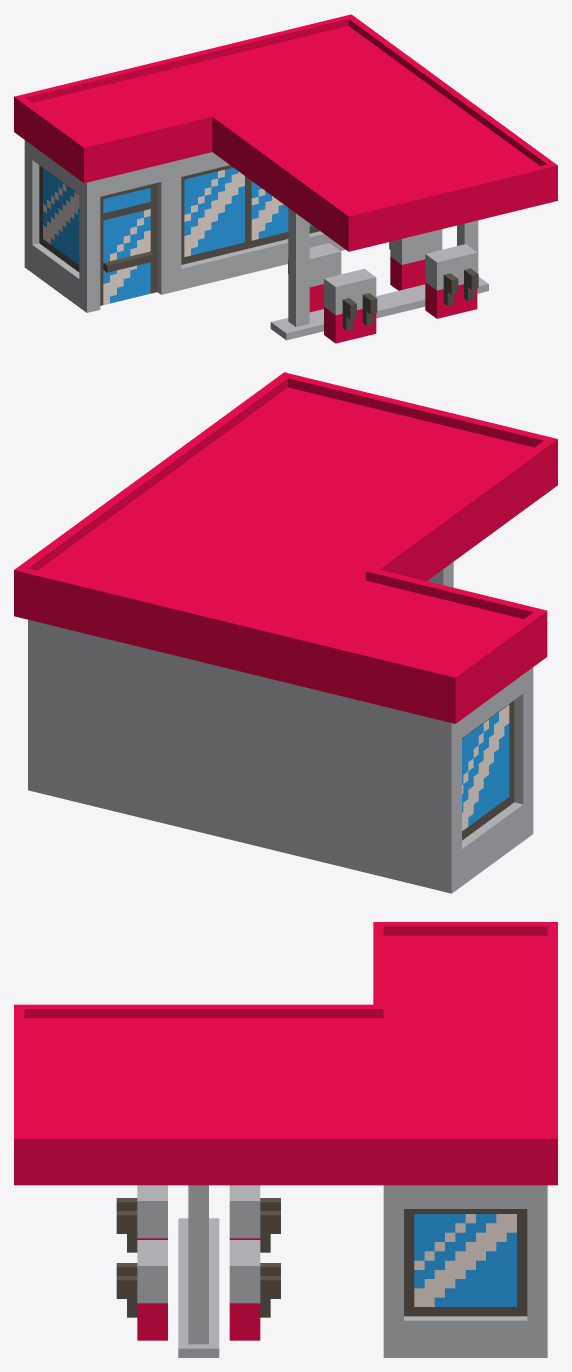
Rendered from gas_station_a_a.obj.
The picture shows the model from 3 angles, top to bottom: view 1: azimuth 30°, elevation 25°; view 2: azimuth 150°, elevation 25°; view 3: azimuth 270°, elevation 25°; orthographic projection. The views are drawn at different scales.
Size of the model in its own units: 5 by 2.4 by 5.3.
1 material, 1 textured.
